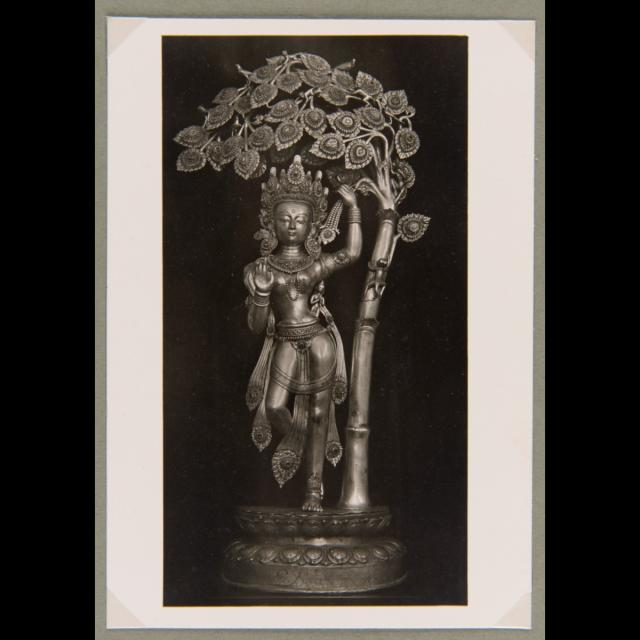buddha-standing: (232, 162, 361, 509)
